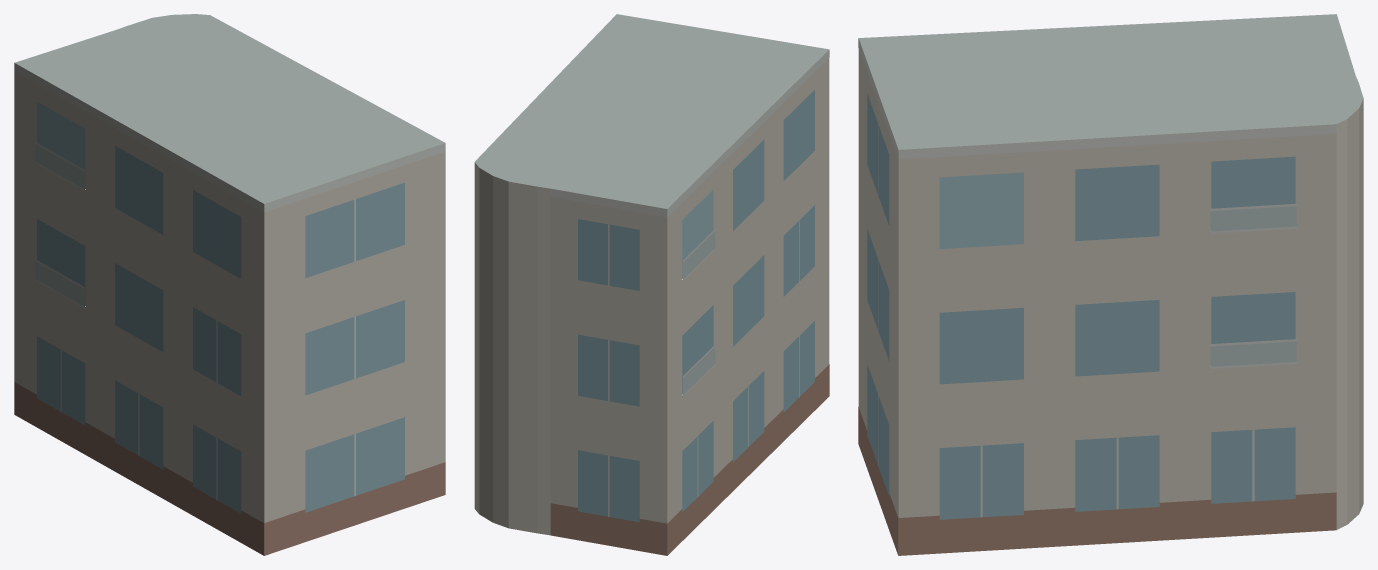
File: survey-upis-32961027.glb
3 renders of one model, left to right at view 1: azimuth 30°, elevation 25°; view 2: azimuth 150°, elevation 25°; view 3: azimuth 270°, elevation 25°, orthographic. The views are drawn at different scales.
Parts seen in each view (by area): view 1: survey-upis-32961027.tmp; view 2: survey-upis-32961027.tmp; view 3: survey-upis-32961027.tmp.
Boxes of the visible parts, x1,y1,x2,y2 form: survey-upis-32961027.tmp: (14,14,445,555); survey-upis-32961027.tmp: (474,14,829,555); survey-upis-32961027.tmp: (858,14,1363,555).
Size of the model in its own units: 7.33 by 10.2 by 11.5.
